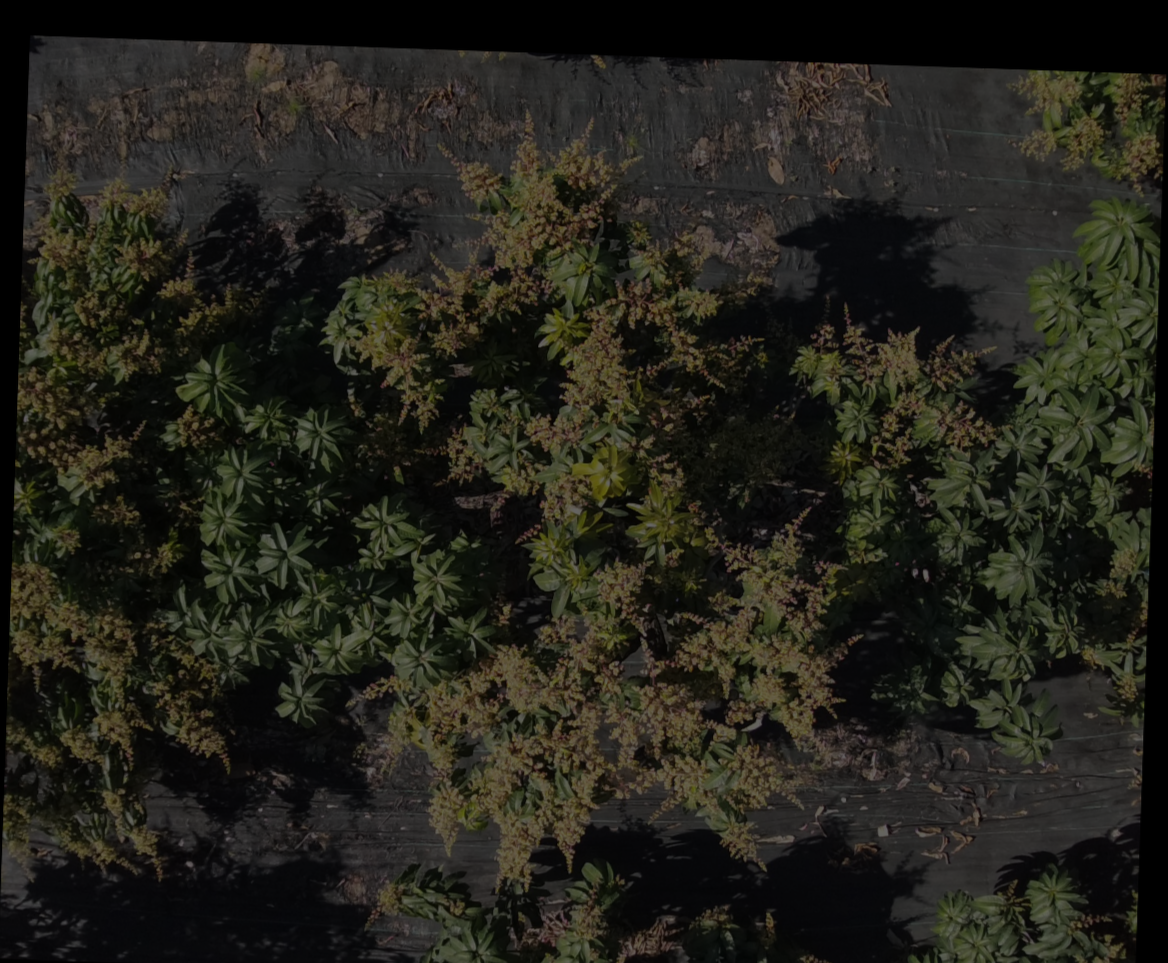flowers: (388, 525, 835, 886), (328, 130, 631, 428), (18, 181, 246, 560), (6, 565, 227, 865), (528, 278, 795, 500), (792, 324, 995, 483), (1010, 71, 1164, 188), (418, 430, 484, 483), (164, 407, 224, 450), (540, 474, 590, 525), (148, 529, 183, 576), (497, 461, 541, 496)
